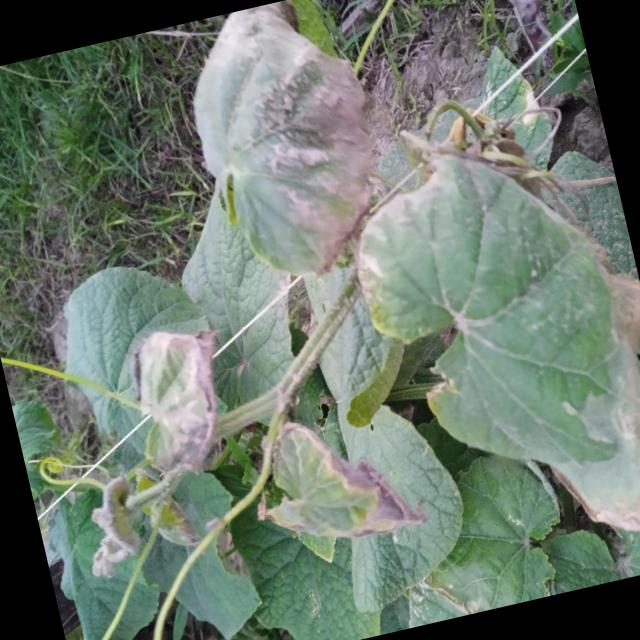cucumber_bacterial: (346, 140, 640, 586), (169, 0, 403, 284), (82, 268, 246, 510), (247, 390, 420, 584)
